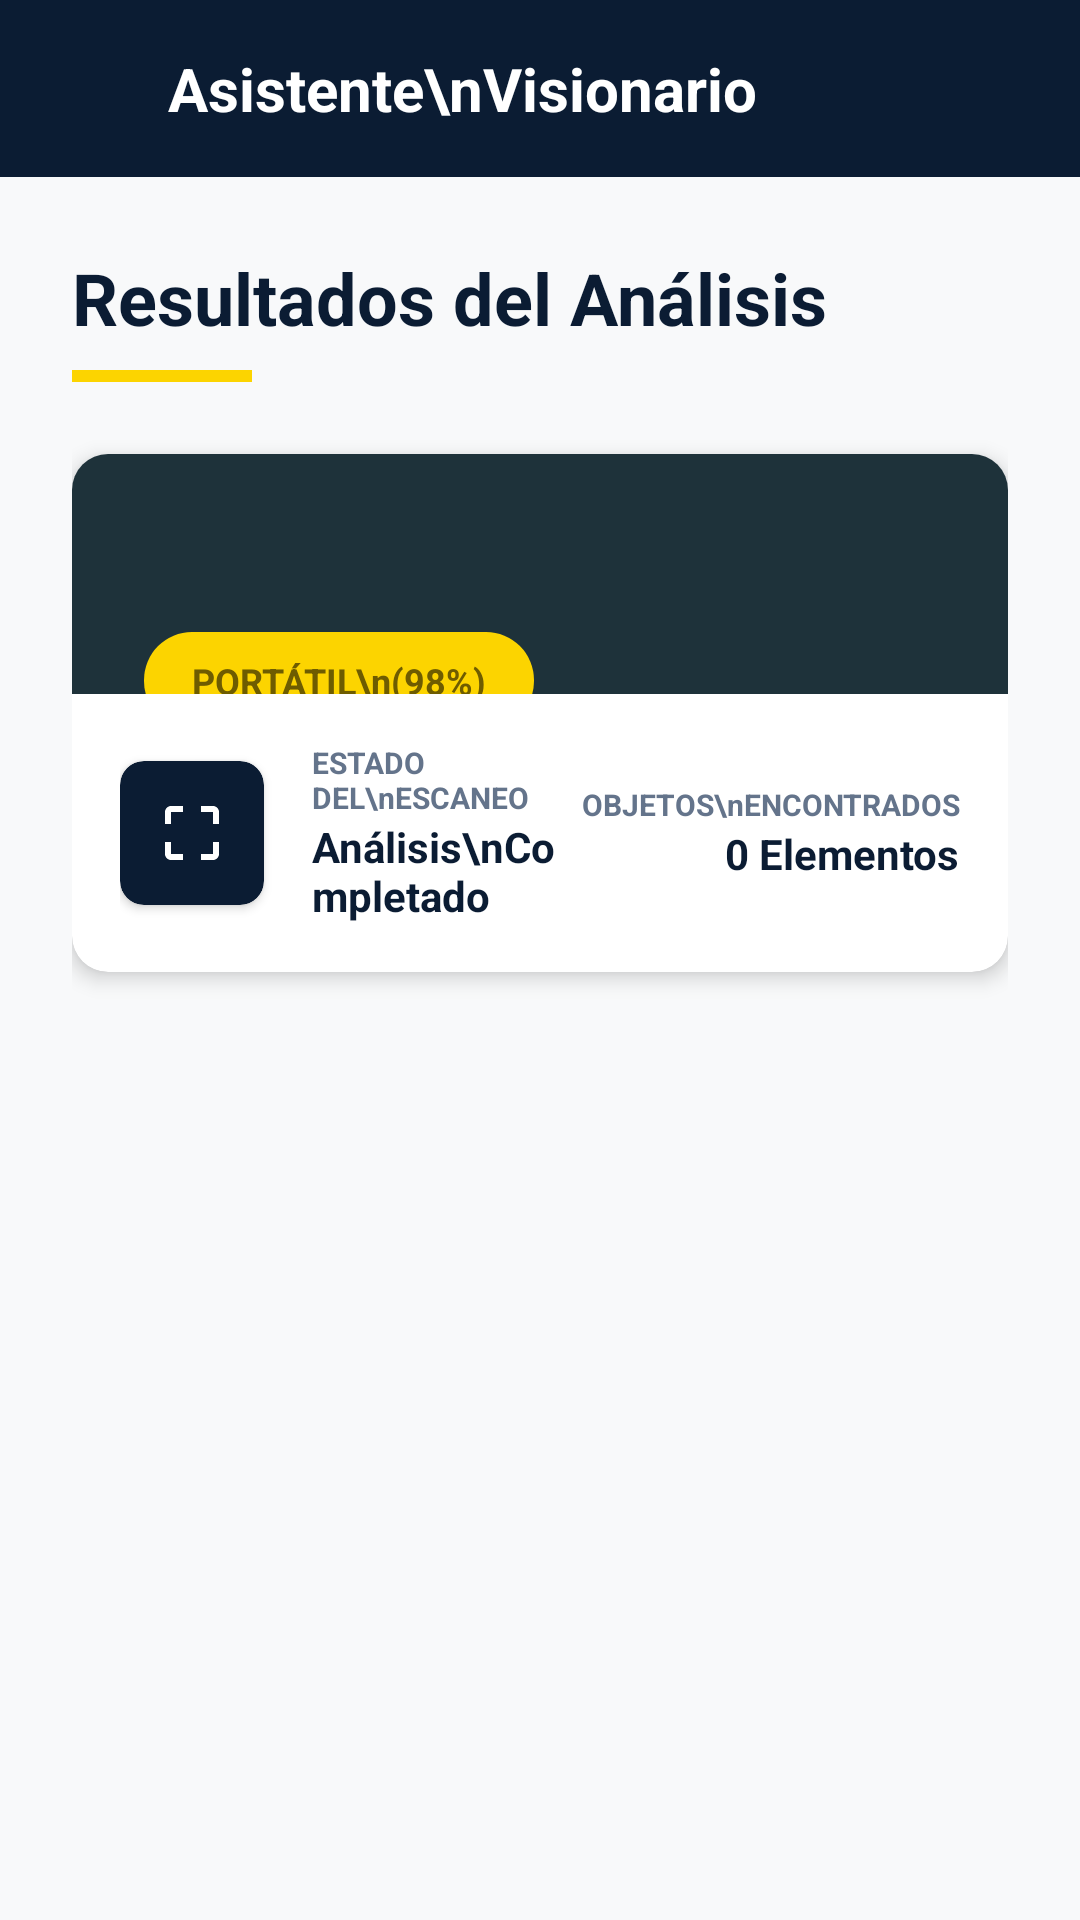

Icon bounding boxes for this 1080*1920 phone screenshot, format (x1, y1, x2, y2):
scan focus: (165, 806, 219, 860)
